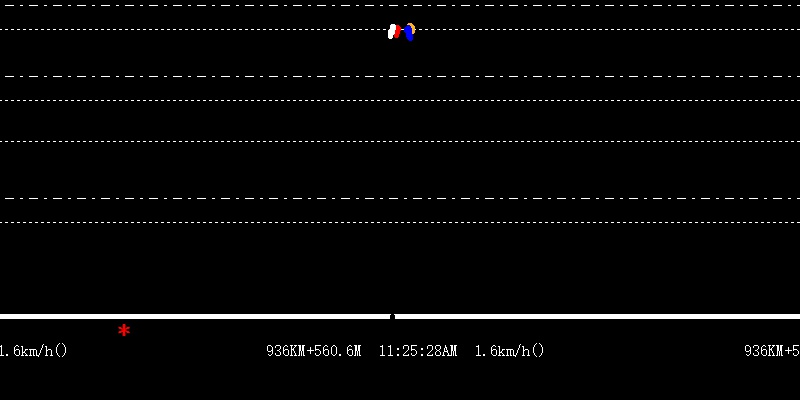face_s: (402, 21, 416, 43), (385, 21, 400, 40)
star: (117, 319, 131, 342)
